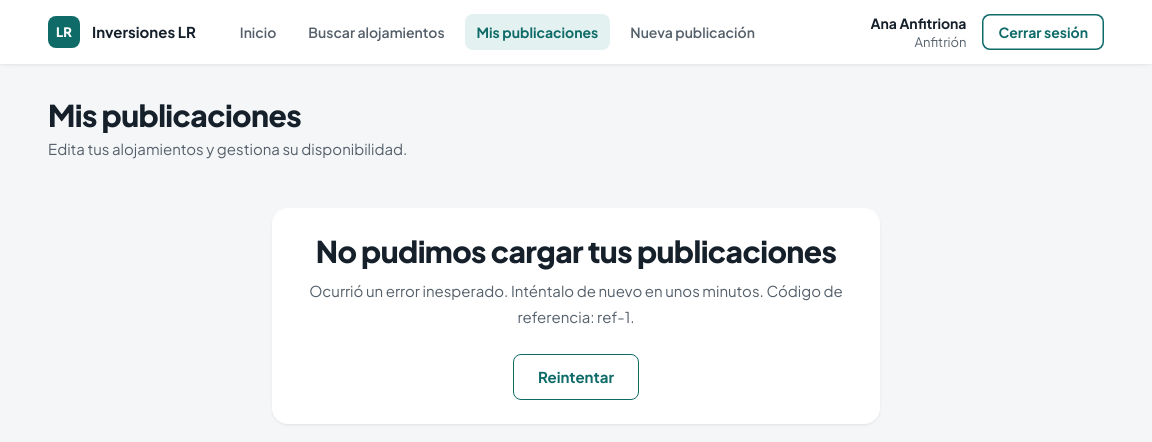
mis publicaciones › si falla la consulta permite reintentar
Expected: the text "Código de referencia: ref-1" is shown, [309, 281, 843, 326]
Click the button "Reintentar" at x=576, y=377, box [513, 354, 639, 400]
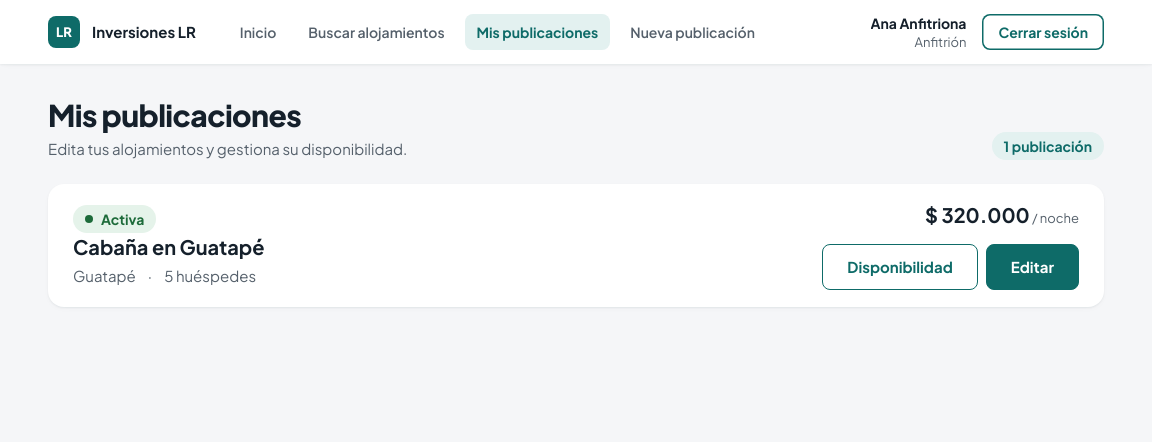
Expected: the heading "Cabaña en Guatapé" is shown, [73, 234, 264, 258]
